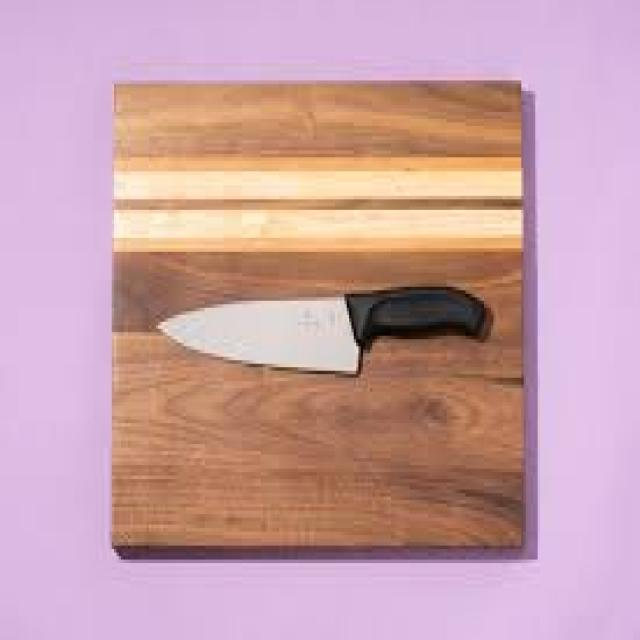knife: (158, 285, 486, 373)
